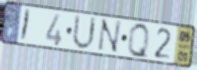2: (154, 27, 173, 62)
4: (44, 11, 63, 48)
I: (19, 8, 32, 43)
N: (95, 18, 123, 55)
Q: (127, 20, 151, 61)
U: (71, 13, 98, 52)
